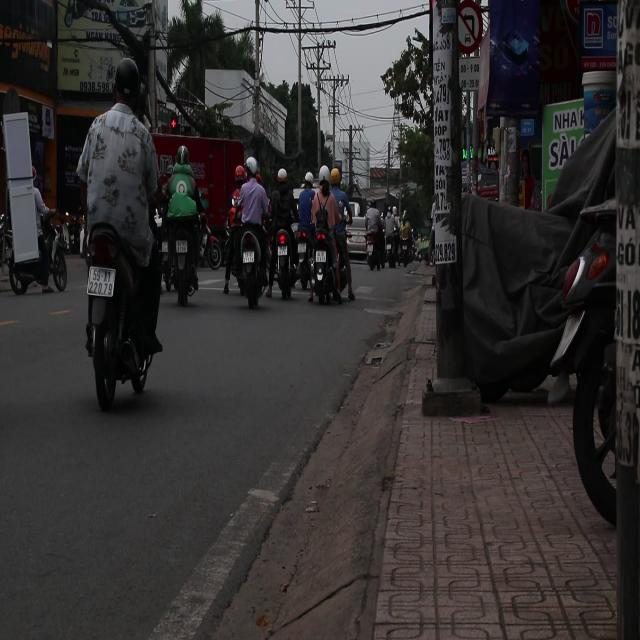motorbike: (82, 233, 159, 400), (226, 220, 285, 309), (170, 220, 198, 316), (268, 220, 300, 298), (312, 238, 328, 306)
